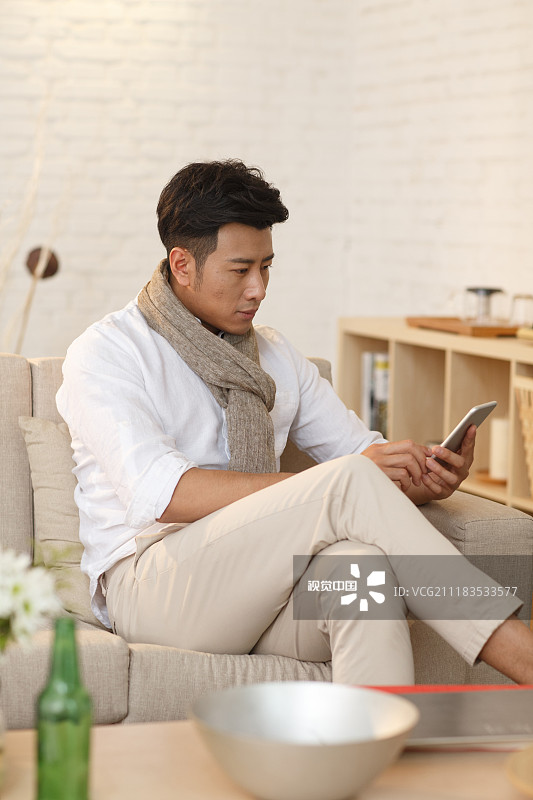reading: (332, 393, 507, 512)
